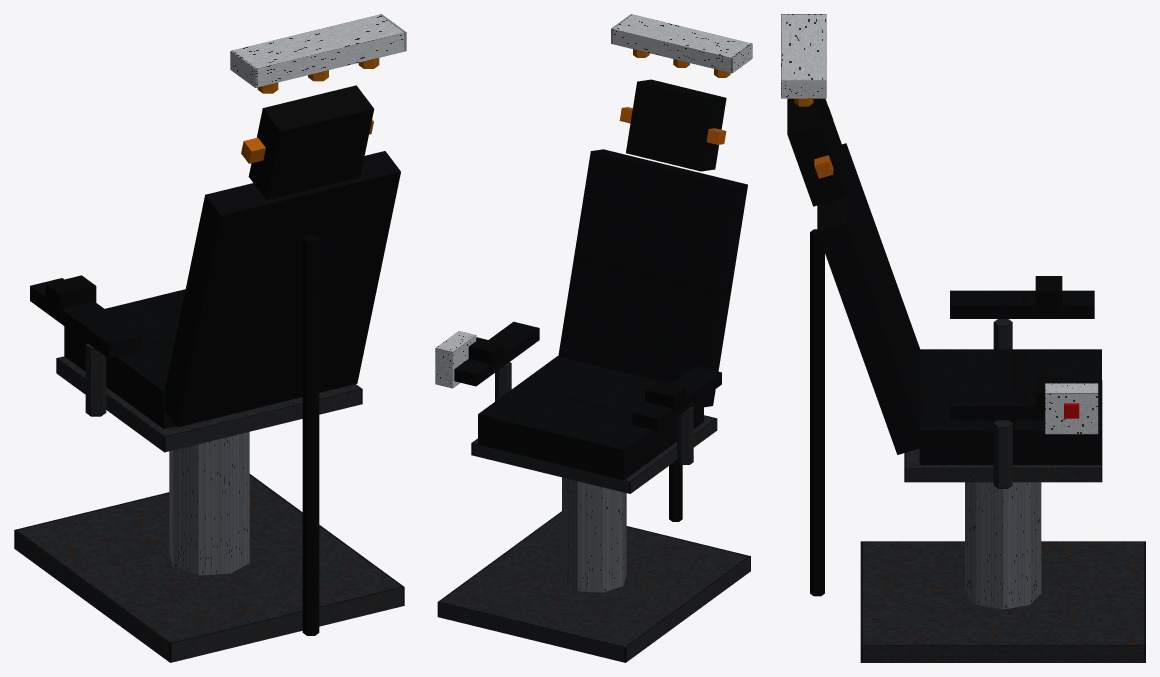
File: neural_interface_chair.glb
3 renders of one model, left to right at view 1: azimuth 30°, elevation 25°; view 2: azimuth 150°, elevation 25°; view 3: azimuth 270°, elevation 25°, orthographic. The views are drawn at different scales.
Parts seen in each view (by area): view 1: neural_interface_chair; view 2: neural_interface_chair; view 3: neural_interface_chair.
Part boxes in pixels (left/top/right/bottom): neural_interface_chair: left=14, top=14, right=406, bottom=662; neural_interface_chair: left=435, top=14, right=752, bottom=662; neural_interface_chair: left=781, top=14, right=1145, bottom=662.
Bounding box in the file's own units: 0.78 × 1.63 × 0.9587.
Materials: 1 (1 with a texture image).
